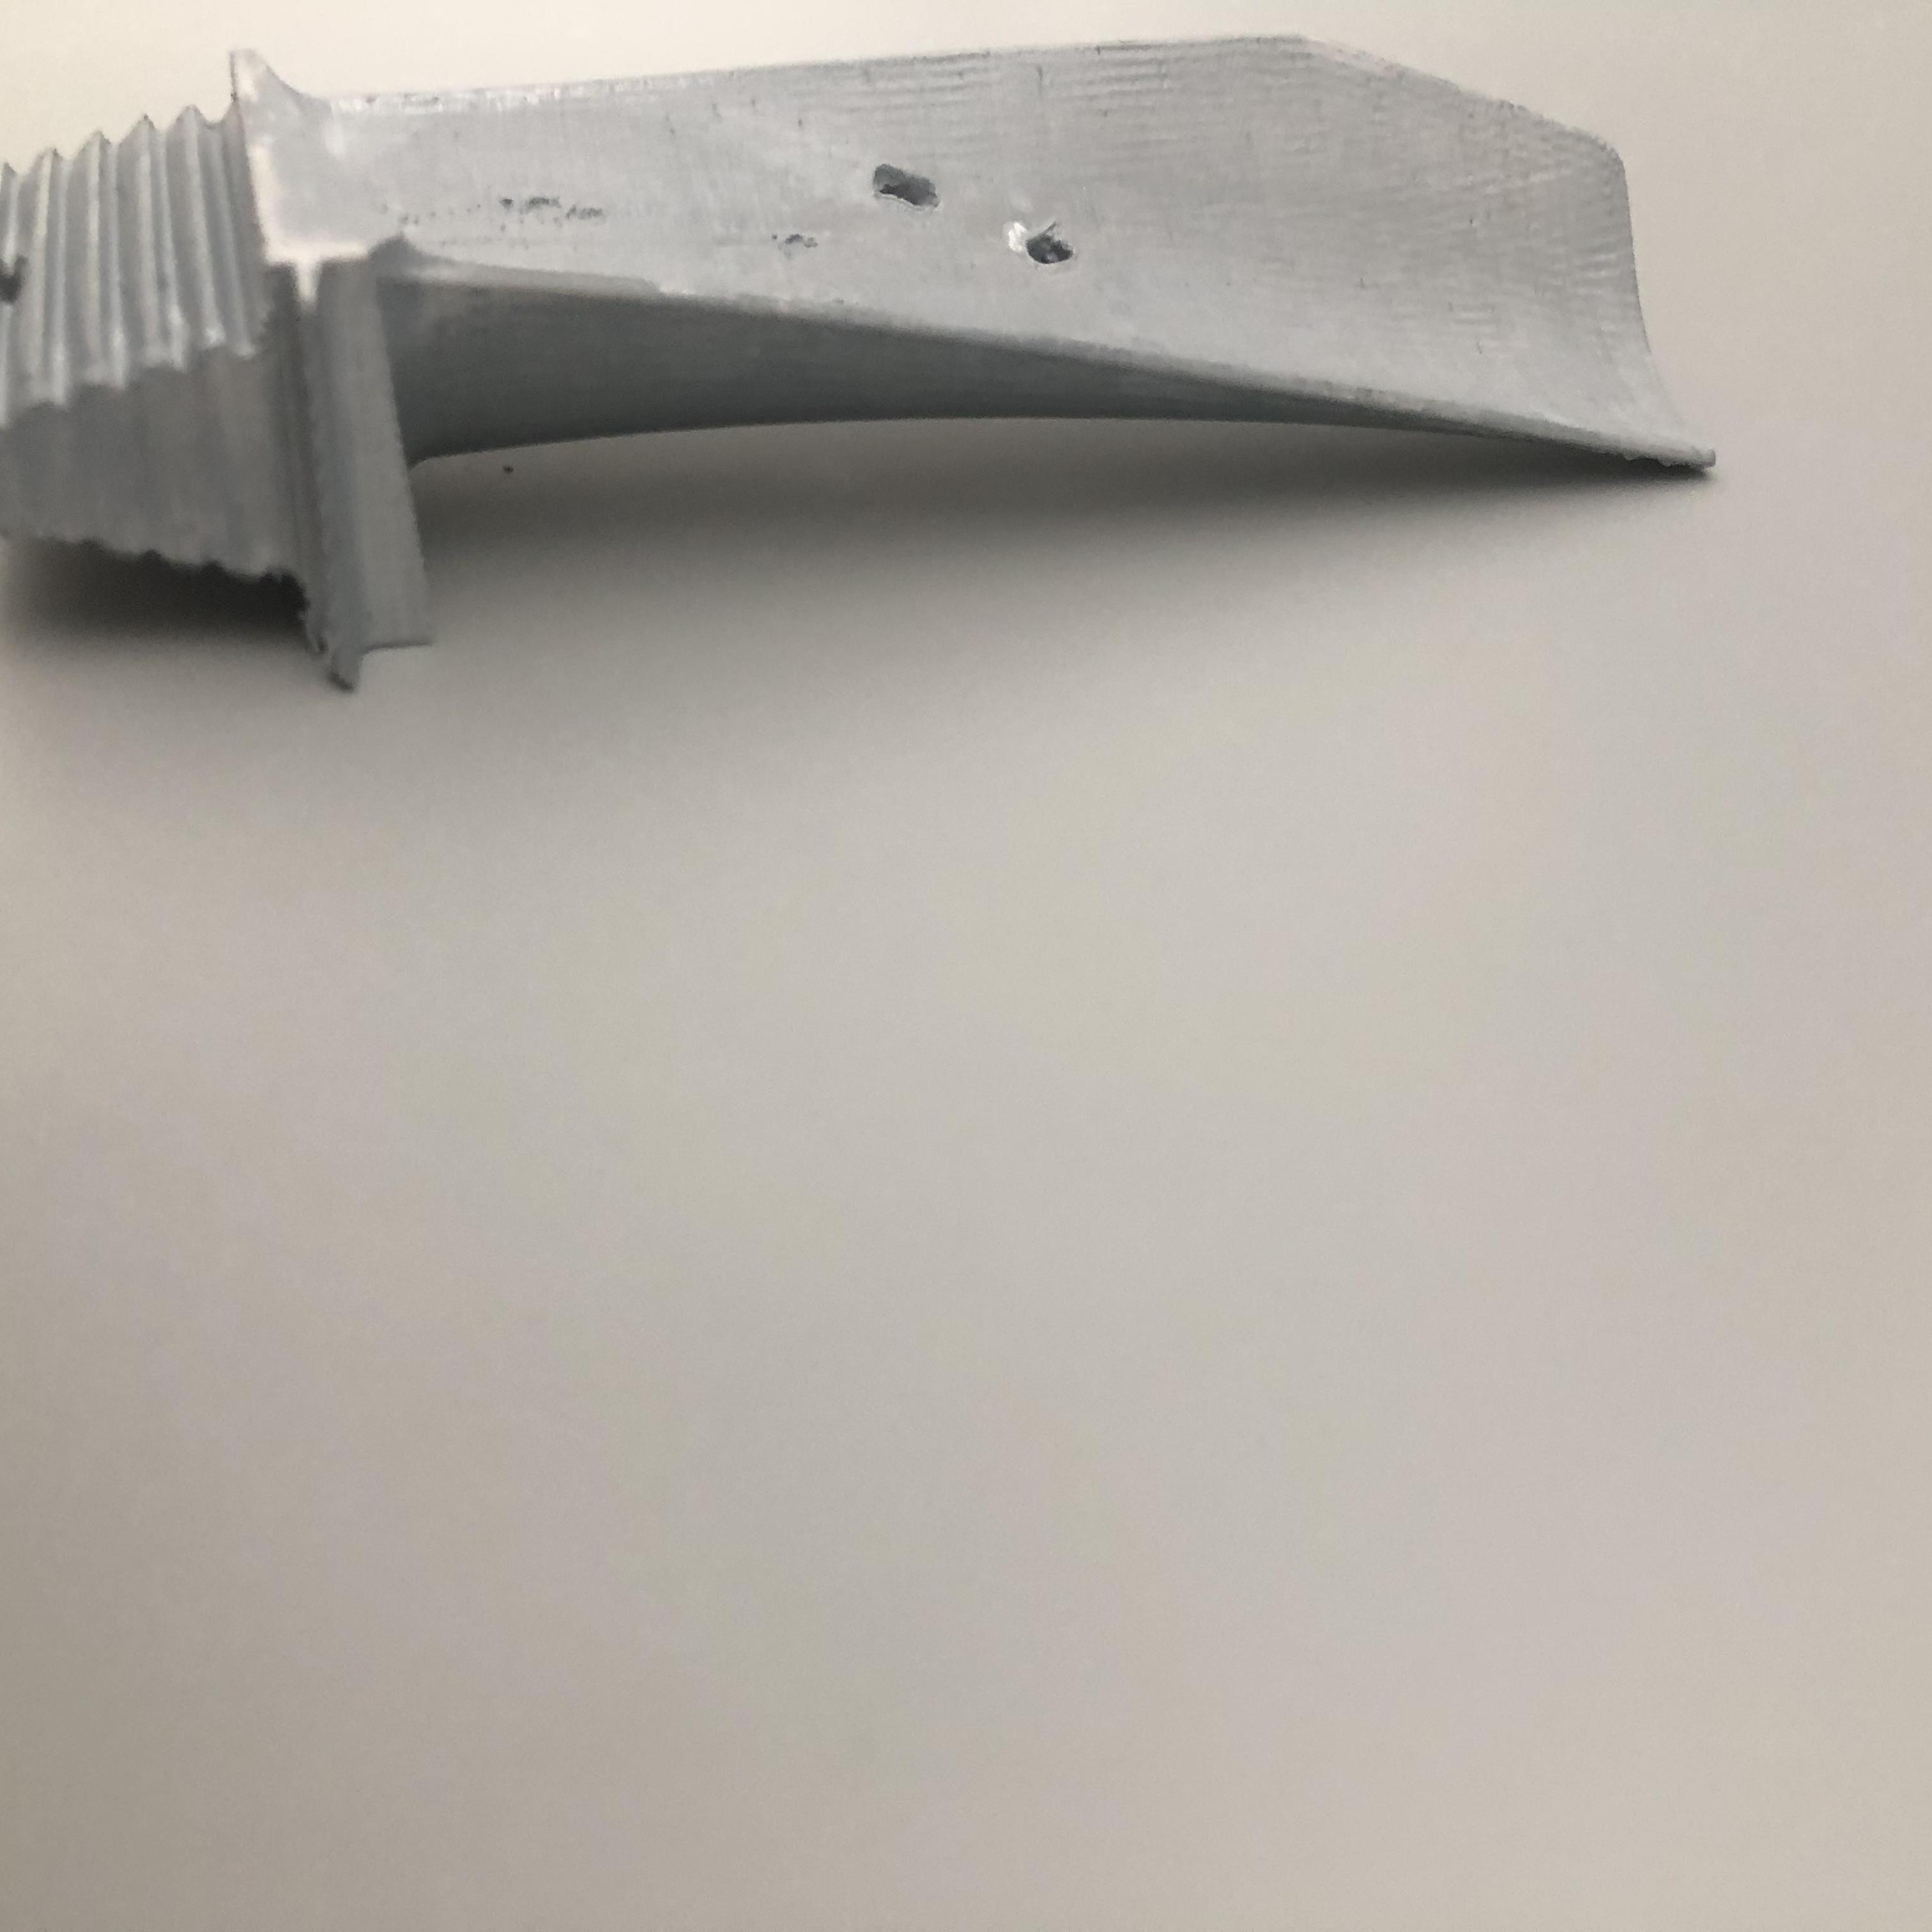breakdown: (777, 170, 1072, 280)
